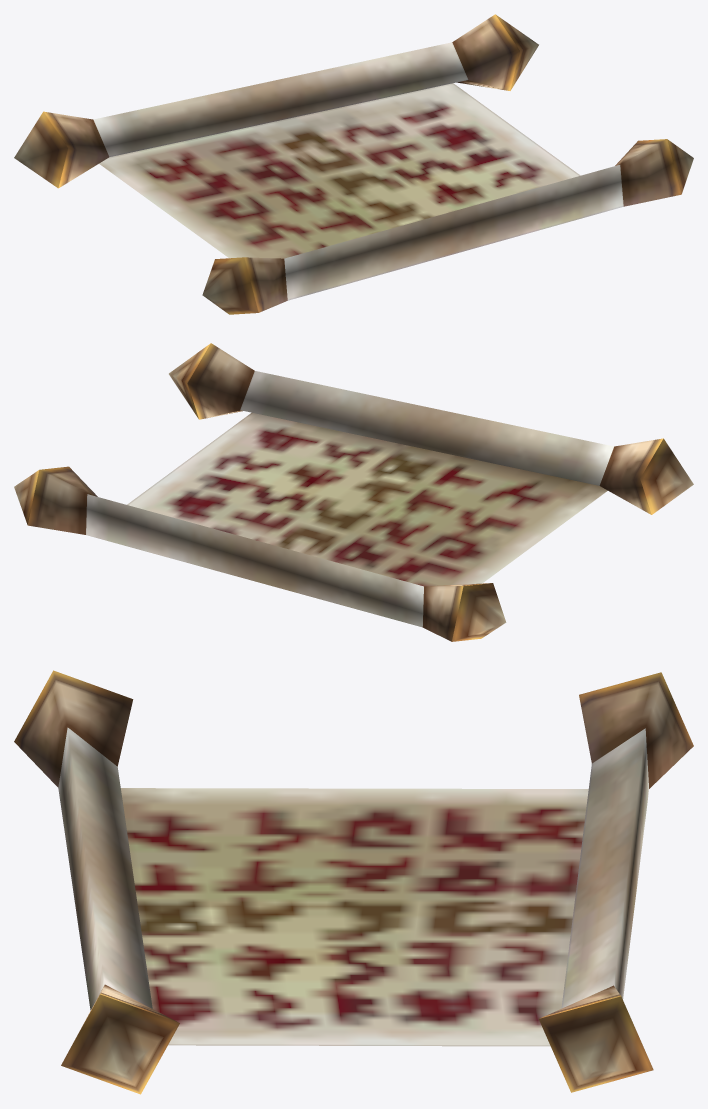
The model's file is scrolla02.obj.
The picture shows the model from 3 angles, top to bottom: view 1: azimuth 30°, elevation 25°; view 2: azimuth 150°, elevation 25°; view 3: azimuth 270°, elevation 25°; orthographic projection. The views are drawn at different scales.
Parts seen in each view (by area): view 1: scrolla02.m2; view 2: scrolla02.m2; view 3: scrolla02.m2.
Part boxes in pixels (x1,y1,x2,y2): scrolla02.m2: (14,14,693,314); scrolla02.m2: (14,343,693,641); scrolla02.m2: (14,670,693,1094).
Bounding box in the file's own units: 1.05 × 0.1315 × 0.8005.
1 material, 1 textured.
